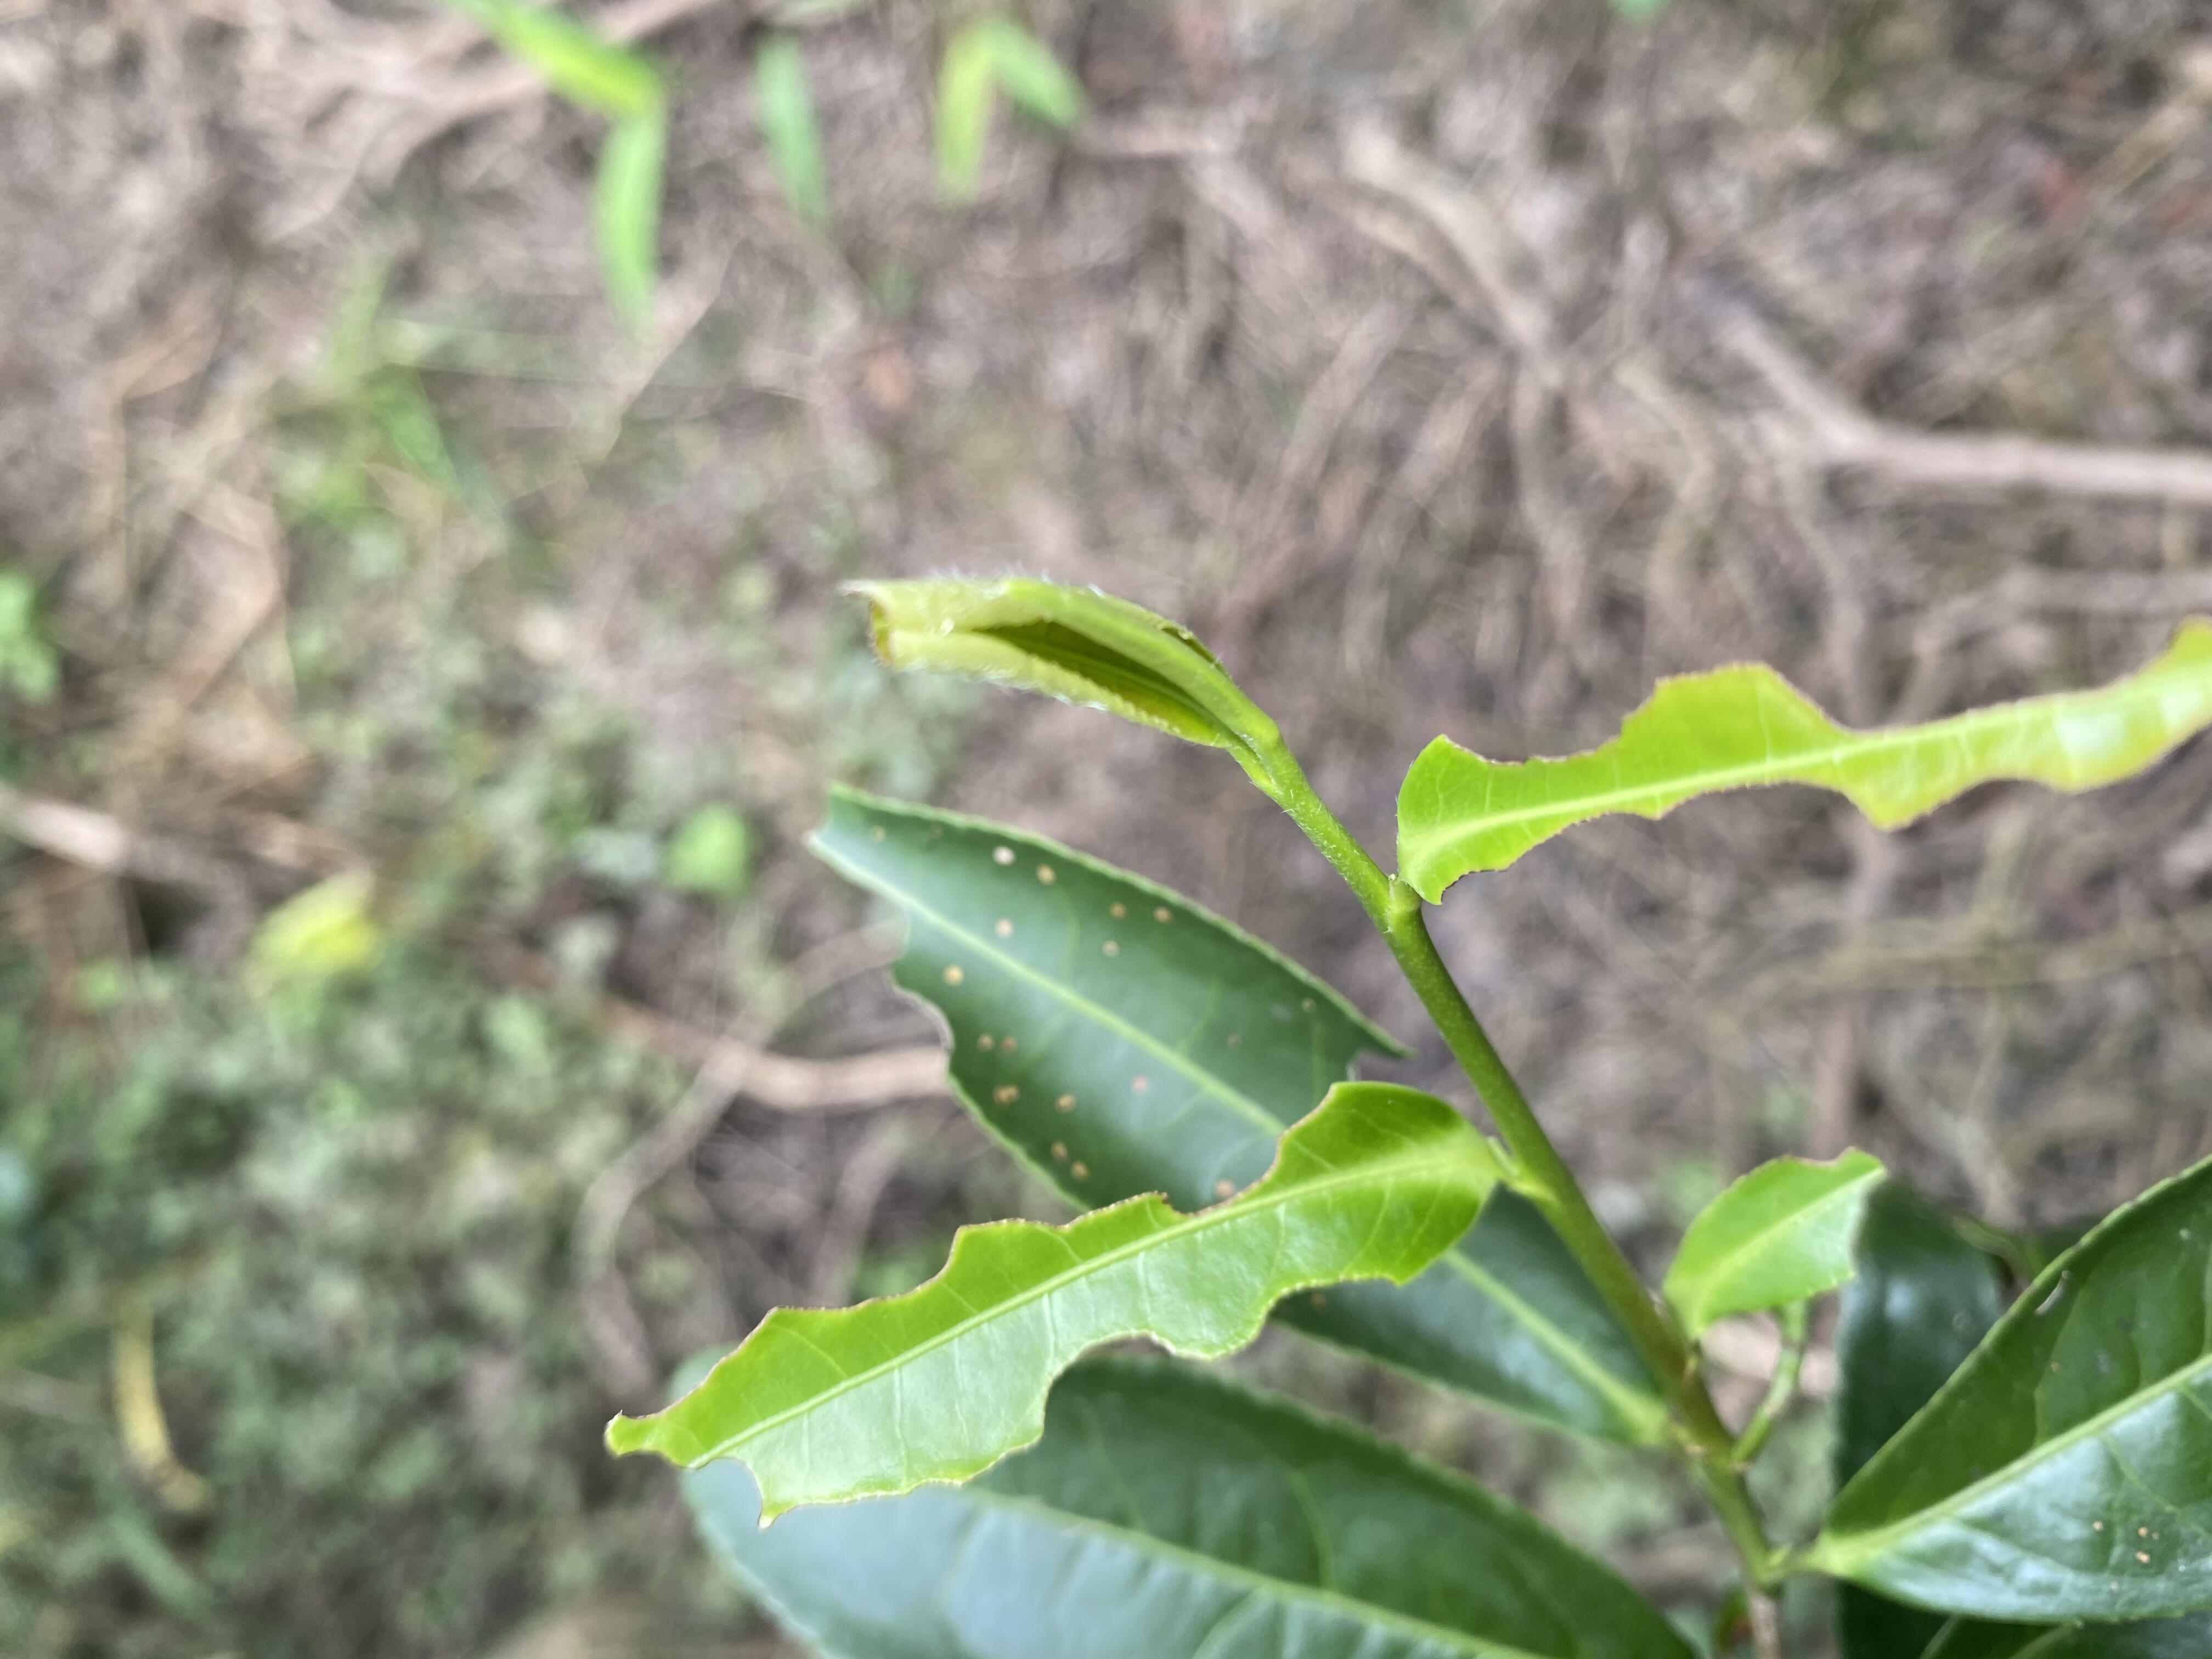chihuo_high: (594, 1079, 1501, 1530), (1402, 608, 2209, 910), (1653, 1145, 1892, 1319)
